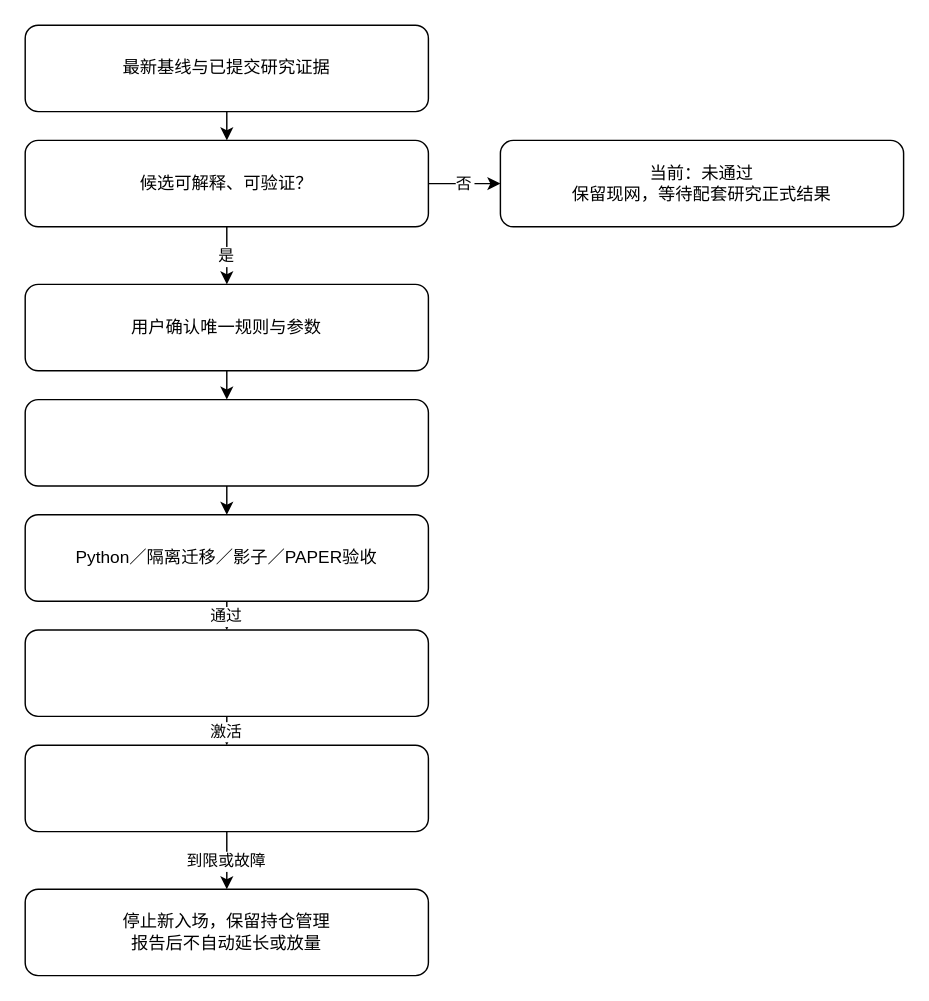
Some shapes in this 929 by 1001 pixel diagram are drawn without their labels. Each missing label, with the centre of its shape:
"52合约／最多1仓／2U与原上限取小 24小时或10笔，20U亏损阈值" goes at point (226, 788).
"冻结目标分支包与操作单，单writer切换" goes at point (226, 672).
"实现独立准入、额度及首意图审计锁" goes at point (226, 442).
